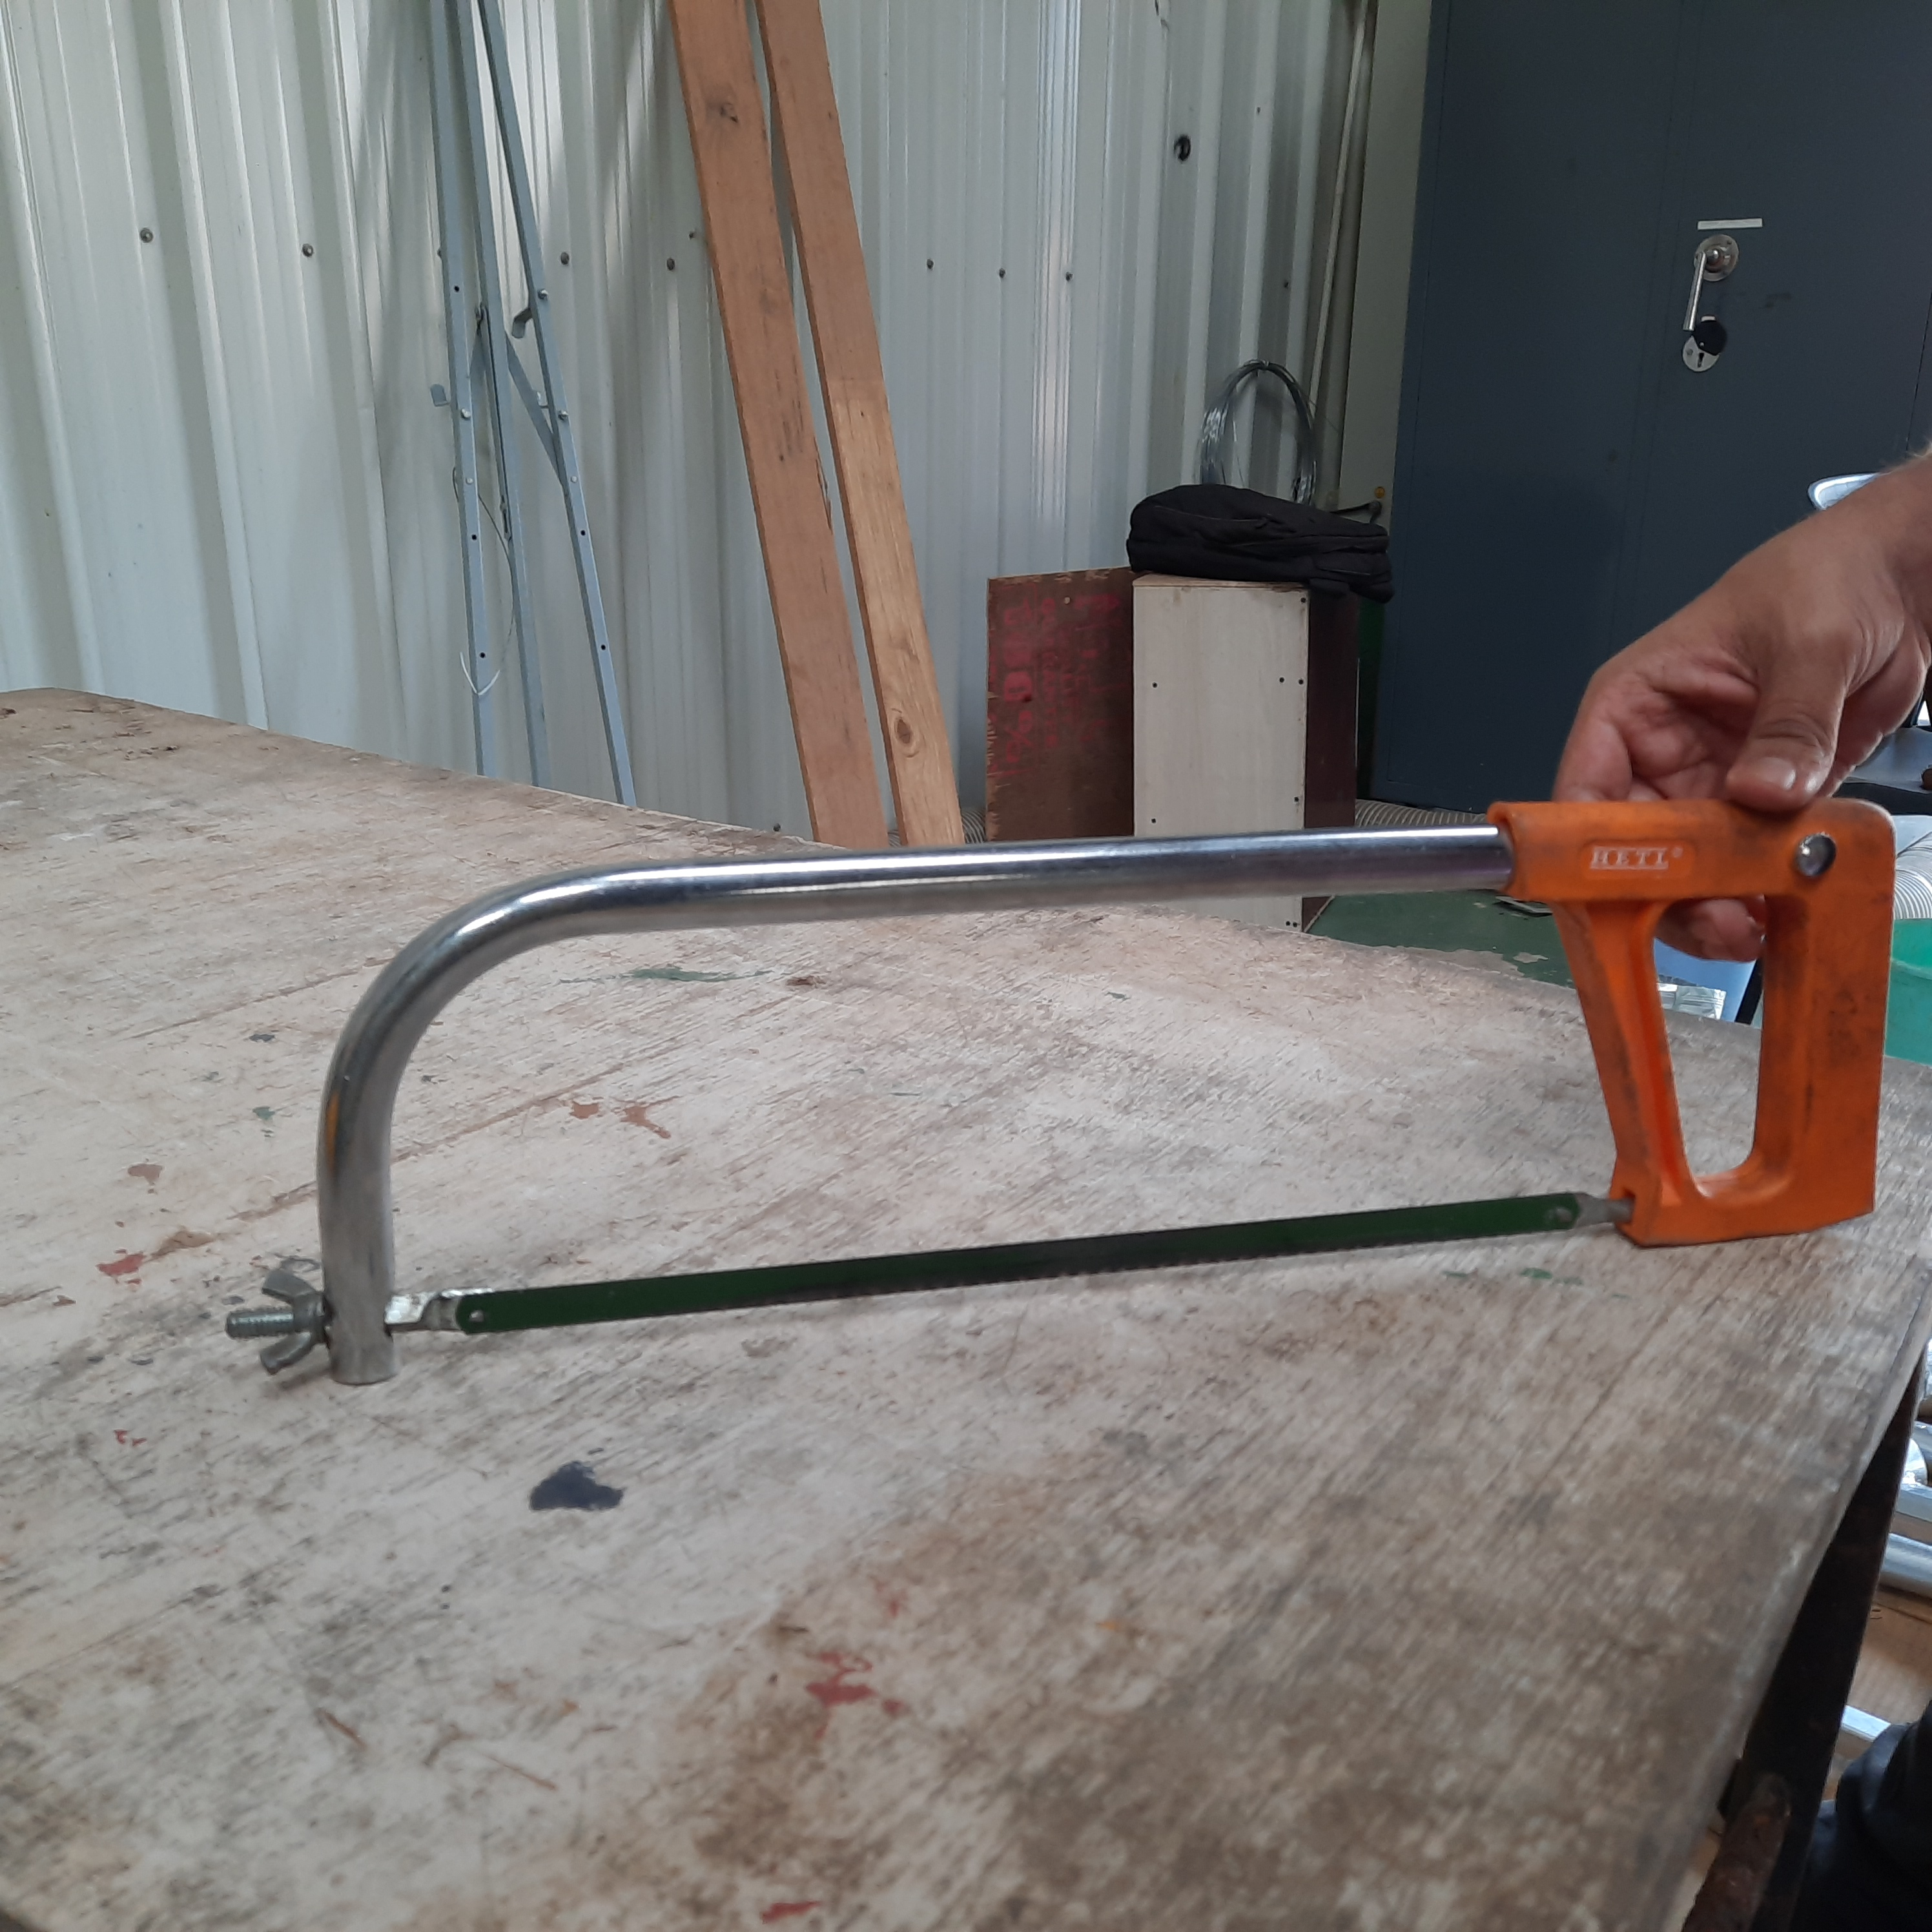Hexaframe: (193, 740, 1925, 1415)
